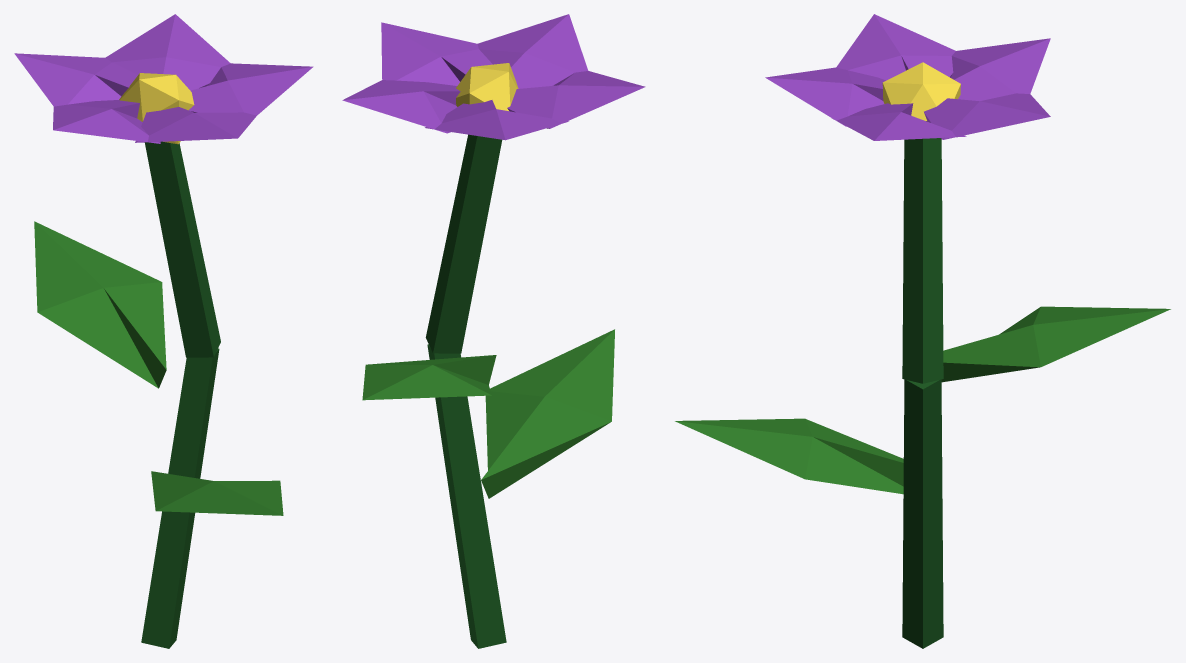
File: flower_purple.glb
The picture shows the model from 3 angles, left to right: view 1: azimuth 30°, elevation 25°; view 2: azimuth 150°, elevation 25°; view 3: azimuth 270°, elevation 25°; orthographic projection.
Parts seen in each view (by area): view 1: flower_purple, leaf, leaf_dark, flower_center; view 2: flower_purple, leaf, leaf_dark, flower_center; view 3: leaf_dark, flower_purple, leaf, flower_center.
Part boxes in pixels (x1,y1,x2,y2): flower_purple: [14, 14, 313, 143]; leaf: [34, 221, 283, 515]; leaf_dark: [141, 141, 220, 648]; flower_center: [119, 73, 194, 144]; flower_purple: [342, 14, 645, 140]; leaf: [362, 329, 614, 498]; leaf_dark: [425, 134, 506, 648]; flower_center: [456, 63, 518, 110]; leaf_dark: [902, 138, 943, 648]; flower_purple: [765, 14, 1050, 140]; leaf: [675, 306, 1170, 494]; flower_center: [882, 62, 960, 121].
Bounding box in the file's own units: 0.2919 × 0.609 × 0.483.
